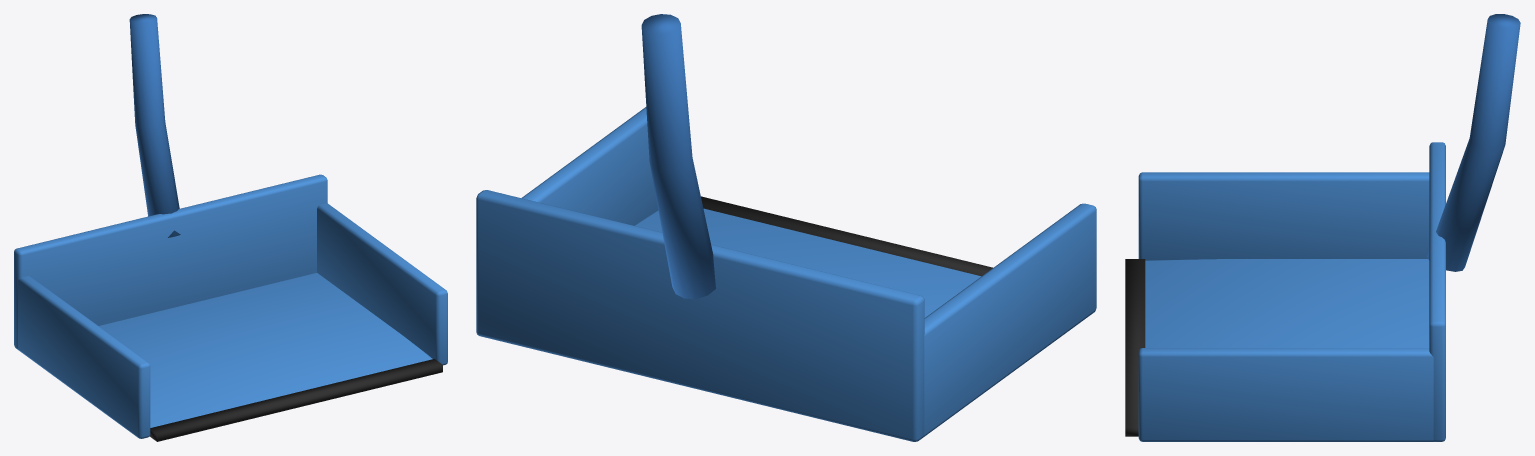
Rendered from decor-dustpan.glb.
The picture shows the model from 3 angles, left to right: view 1: azimuth 30°, elevation 25°; view 2: azimuth 150°, elevation 25°; view 3: azimuth 270°, elevation 25°; orthographic projection. The views are drawn at different scales.
Visible parts, largest first — view 1: Dustpan__Pan, Dustpan__Handle, Dustpan__Lip; view 2: Dustpan__Pan, Dustpan__Handle, Dustpan__Lip; view 3: Dustpan__Pan, Dustpan__Handle, Dustpan__Lip.
Boxes of the visible parts, left/top/right/bottom form: Dustpan__Pan: left=14, top=174, right=447, bottom=438; Dustpan__Handle: left=129, top=14, right=180, bottom=237; Dustpan__Lip: left=150, top=359, right=442, bottom=441; Dustpan__Pan: left=476, top=107, right=1096, bottom=441; Dustpan__Handle: left=641, top=14, right=715, bottom=298; Dustpan__Lip: left=701, top=196, right=992, bottom=276; Dustpan__Pan: left=1138, top=142, right=1445, bottom=441; Dustpan__Handle: left=1427, top=14, right=1520, bottom=271; Dustpan__Lip: left=1125, top=259, right=1145, bottom=436.
Size of the model in its own units: 26 by 22.12 by 23.79.
